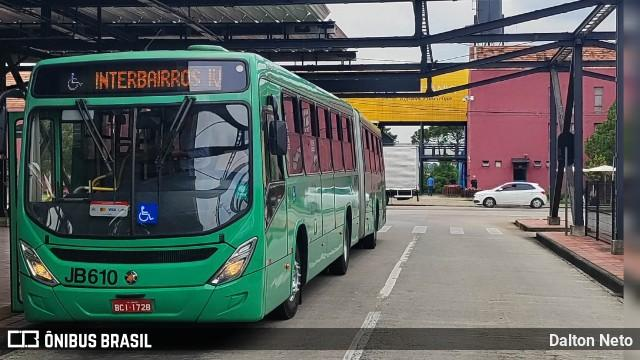INTERBAIRROS IV: (91, 64, 226, 95)
